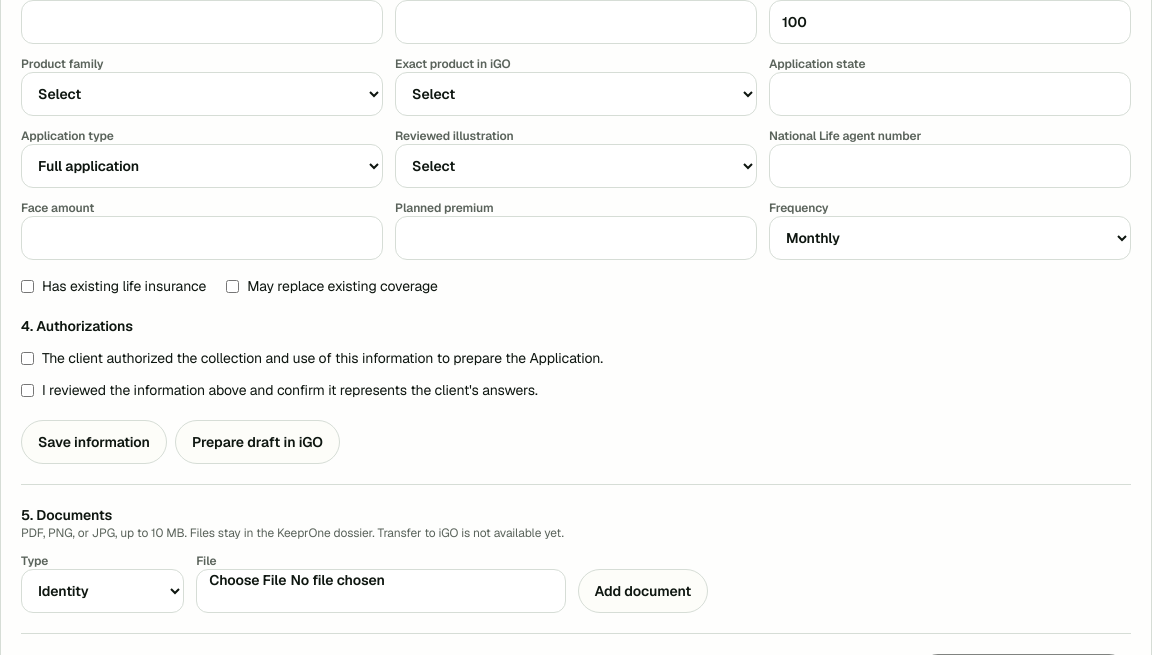
Test: ApplicationDossier preparation › requires an explicit click and describes authorization as queued work
The width and height of the screenshot is (1152, 655).
(page scrolled)
Click the button "Prepare draft in iGO": (257, 442) [175,420,340,464]
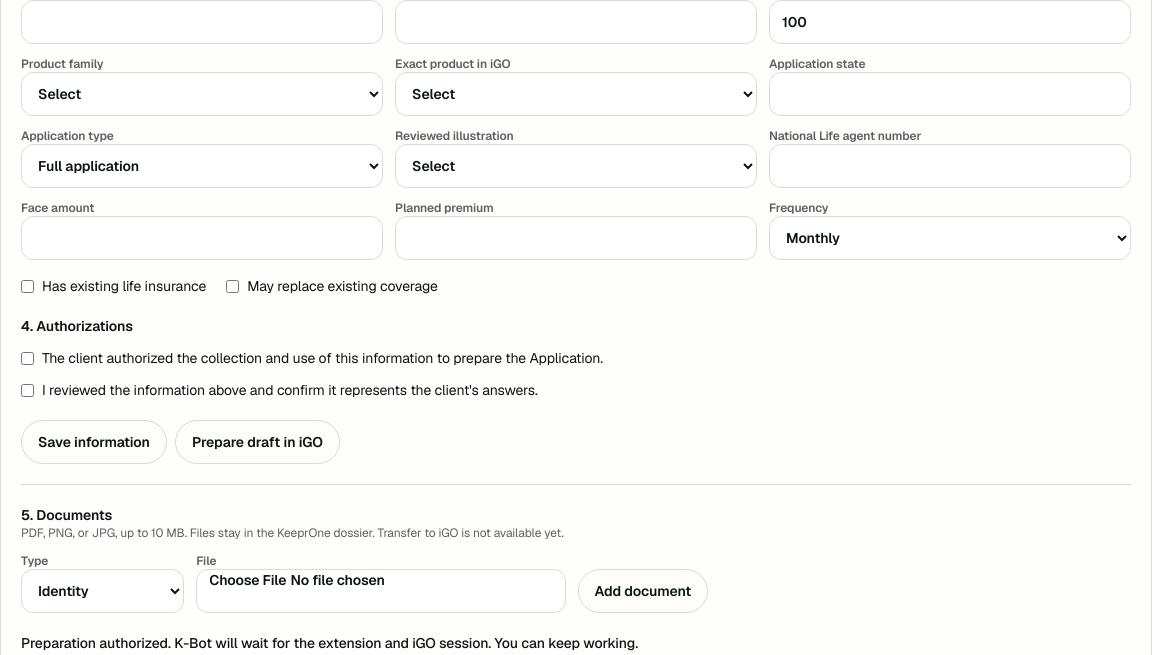
Now the text "Preparation authorized. K-Bot will wait" is shown, box [21,634,638,652]
